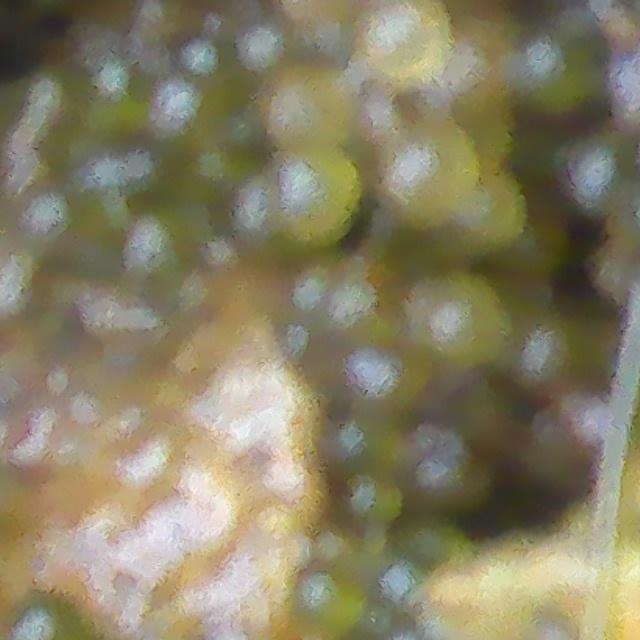SeaGrape: (399, 264, 516, 379), (380, 120, 486, 228), (357, 0, 456, 88), (265, 148, 359, 240), (261, 66, 352, 146), (509, 34, 597, 104), (340, 346, 418, 418), (300, 563, 370, 634), (420, 442, 490, 509), (7, 592, 82, 640)
